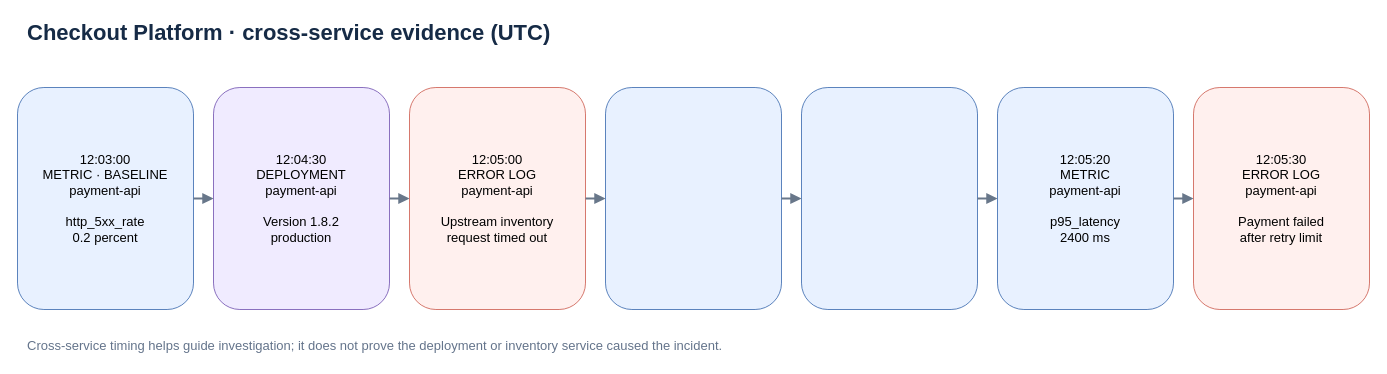
Some shapes in this 1387 by 374 pixel diagram are drawn without their labels. Here are the shapes that lost their labels. From the top down, the box of each, then its label:
(604, 86, 782, 310): 12:05:05 METRIC inventory-api p95_latency 2250 ms
(800, 86, 978, 310): 12:05:10 METRIC payment-api http_5xx_rate rises to 8.4%
